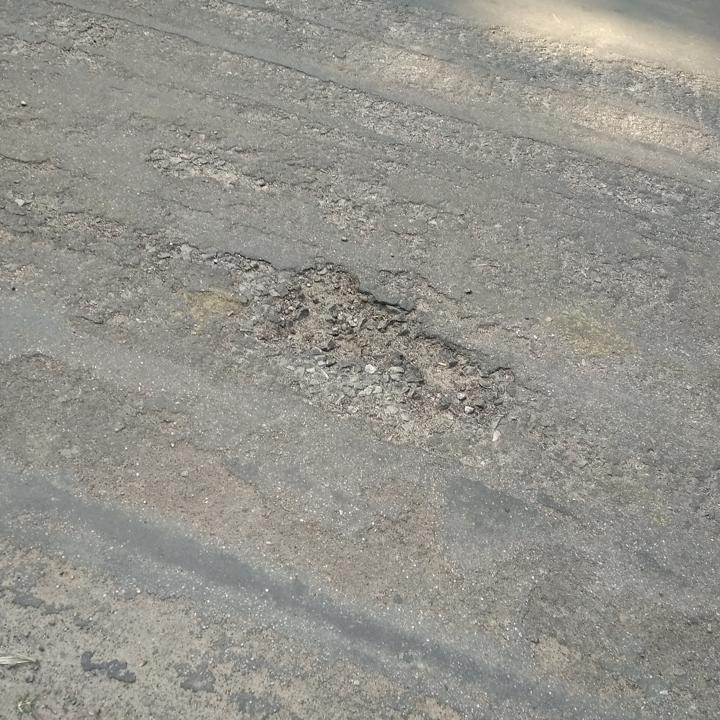pothole: (267, 253, 516, 424), (147, 143, 273, 192)
